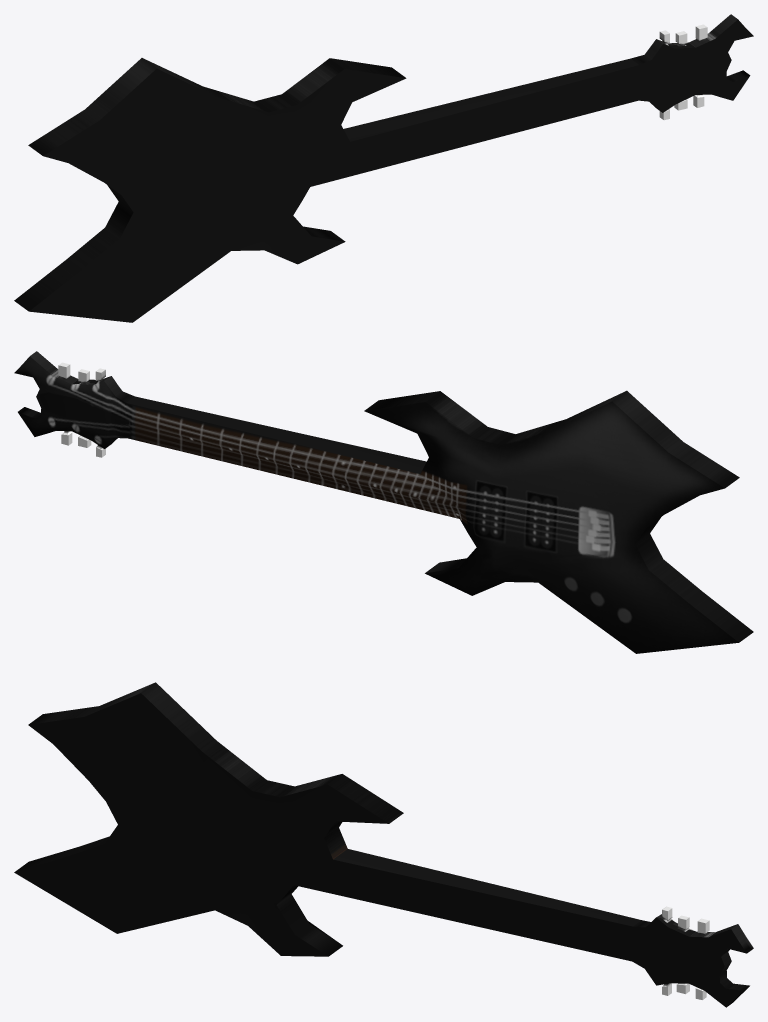
The model's file is Guitar.fbx.
3 renders of one model, top to bottom at view 1: azimuth 30°, elevation 25°; view 2: azimuth 150°, elevation 25°; view 3: azimuth 330°, elevation 25°, orthographic.
Parts seen in each view (by area): view 1: pCube1; view 2: pCube1; view 3: pCube1.
Part boxes in pixels (bbox=[...]): pCube1: bbox=[14, 14, 753, 322]; pCube1: bbox=[14, 351, 753, 653]; pCube1: bbox=[14, 682, 753, 1007].
Bounding box in the file's own units: 10.21 × 3.31 × 0.5139.
Materials: 1 (1 with a texture image).
